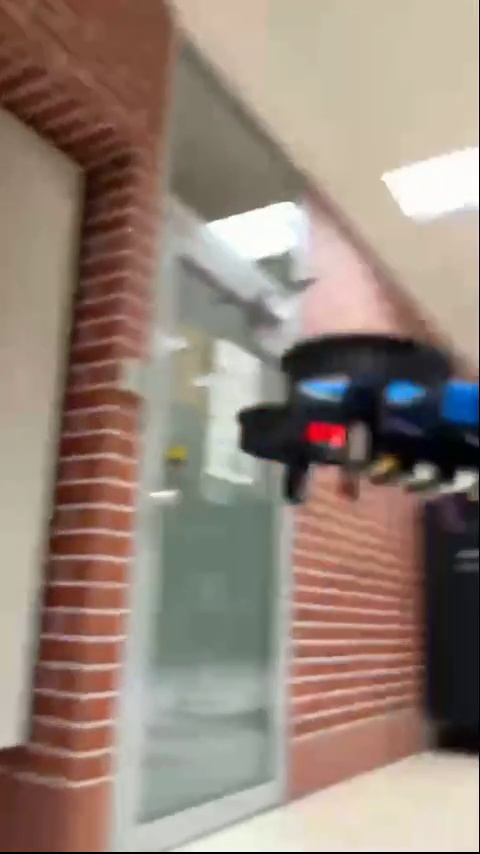drone: (241, 337, 480, 506)
